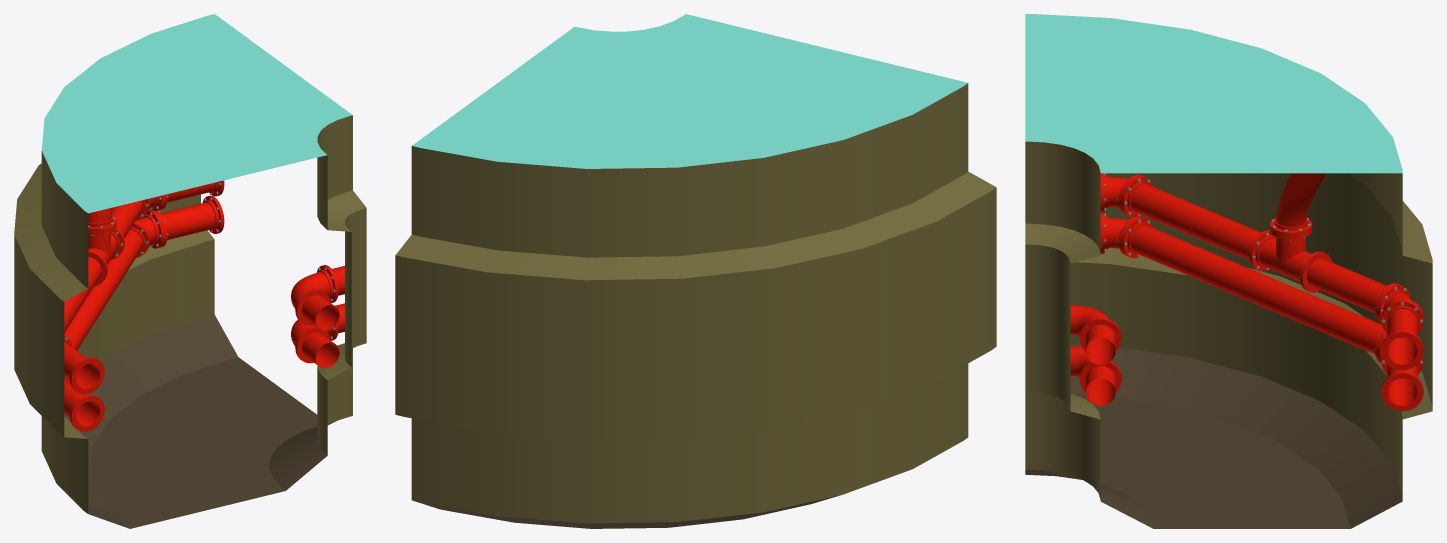
Rendered from Corner_Curved_.fbx.
The picture shows the model from 3 angles, left to right: view 1: azimuth 30°, elevation 25°; view 2: azimuth 150°, elevation 25°; view 3: azimuth 270°, elevation 25°; orthographic projection. The views are drawn at different scales.
Visible parts, largest first — view 1: Corner_Curved_, Pipe_200_Straight_1m.025, Pipe_200_Corner.001, Pipe_200_Straight_0.5m.006, Pipe_200_Corner.003, Pipe_200_Straight_1m.002, Pipe_200_Straight_0.5m.005, Pipe_200_Straight_0.5m.007, Pipe_200_T.007, Pipe_200_Corner_45.003, Pipe_200_Straight_0.5m.004, Pipe_200_Swerve_2m.002; view 2: Corner_Curved_; view 3: Corner_Curved_, Pipe_200_Straight_1m.025, Pipe_200_Straight_1m.002, Pipe_200_T.007, Pipe_200_Straight_0.5m.004, Pipe_200_Swerve_2m.002, Pipe_200_Corner.001, Pipe_200_Corner.003, Pipe_200_Straight_0.5m.006, Pipe_200_Corner_45.004, Pipe_200_Corner_45.002, Pipe_200_Corner_45.001.
Boxes of the visible parts, box(x1,y1,x2,y2) form: Corner_Curved_: box(14, 14, 366, 528); Pipe_200_Straight_1m.025: box(64, 222, 149, 350); Pipe_200_Corner.001: box(291, 265, 344, 330); Pipe_200_Straight_0.5m.006: box(151, 195, 224, 247); Pipe_200_Corner.003: box(290, 303, 344, 368); Pipe_200_Straight_1m.002: box(64, 198, 149, 332); Pipe_200_Straight_0.5m.005: box(64, 335, 104, 394); Pipe_200_Straight_0.5m.007: box(64, 376, 104, 431); Pipe_200_T.007: box(88, 225, 124, 286); Pipe_200_Corner_45.003: box(135, 210, 164, 248); Pipe_200_Straight_0.5m.004: box(160, 180, 224, 209); Pipe_200_Swerve_2m.002: box(88, 207, 116, 232); Corner_Curved_: box(395, 14, 996, 528); Corner_Curved_: box(1025, 14, 1432, 528); Pipe_200_Straight_1m.025: box(1121, 217, 1384, 363); Pipe_200_Straight_1m.002: box(1121, 176, 1399, 322); Pipe_200_T.007: box(1249, 228, 1331, 292); Pipe_200_Straight_0.5m.004: box(1381, 300, 1423, 370); Pipe_200_Swerve_2m.002: box(1270, 173, 1326, 236); Pipe_200_Corner.001: box(1070, 304, 1121, 364); Pipe_200_Corner.003: box(1070, 345, 1121, 405); Pipe_200_Straight_0.5m.006: box(1381, 356, 1423, 411); Pipe_200_Corner_45.004: box(1100, 213, 1142, 255); Pipe_200_Corner_45.002: box(1100, 173, 1142, 214); Pipe_200_Corner_45.001: box(1377, 284, 1423, 320).
Bounding box in the file's own units: 2.7 × 2.6 × 2.7.
